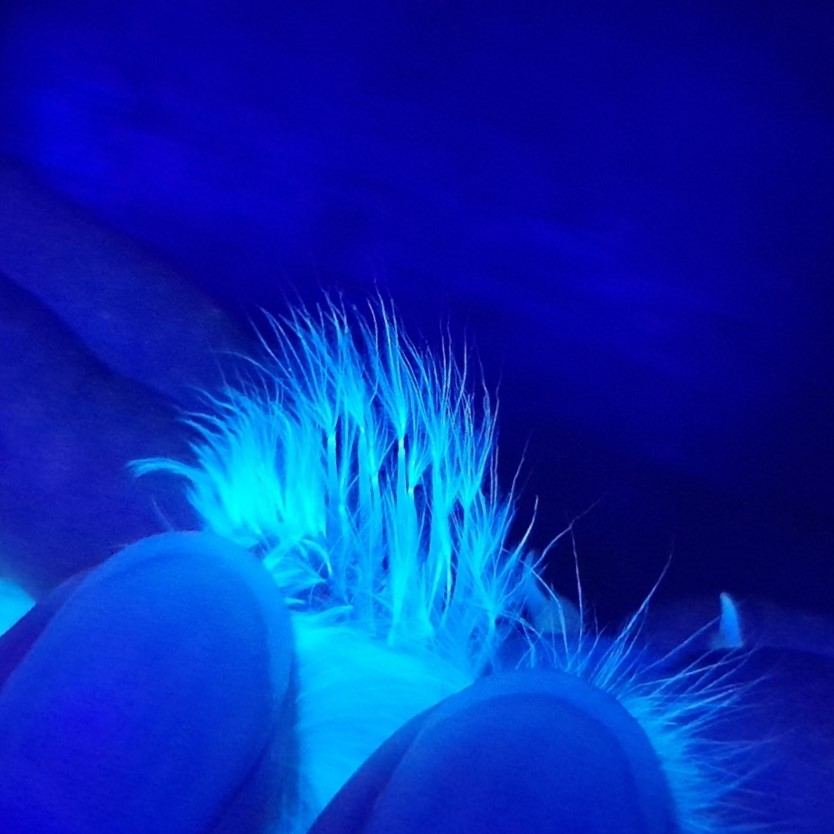male: (257, 396, 535, 673)
